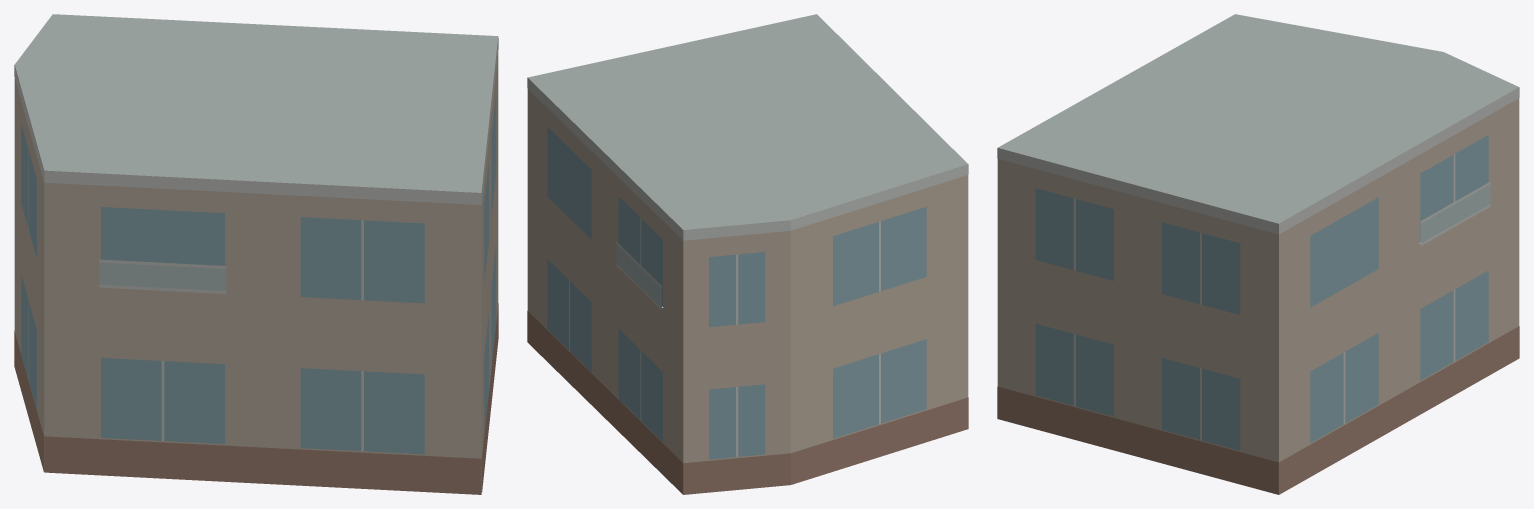
File: survey-upis-32506509.glb
3 views of the same model, side by side, from view 1: azimuth 30°, elevation 25°; view 2: azimuth 150°, elevation 25°; view 3: azimuth 270°, elevation 25° (orthographic). The views are drawn at different scales.
Parts seen in each view (by area): view 1: survey-upis-32506509.tmp; view 2: survey-upis-32506509.tmp; view 3: survey-upis-32506509.tmp.
Boxes of the visible parts, <box> form: survey-upis-32506509.tmp: <box>14,14,498,494</box>; survey-upis-32506509.tmp: <box>527,14,968,494</box>; survey-upis-32506509.tmp: <box>997,14,1519,494</box>.
Bounding box in the file's own units: 10.13 × 6.1 × 10.65.
